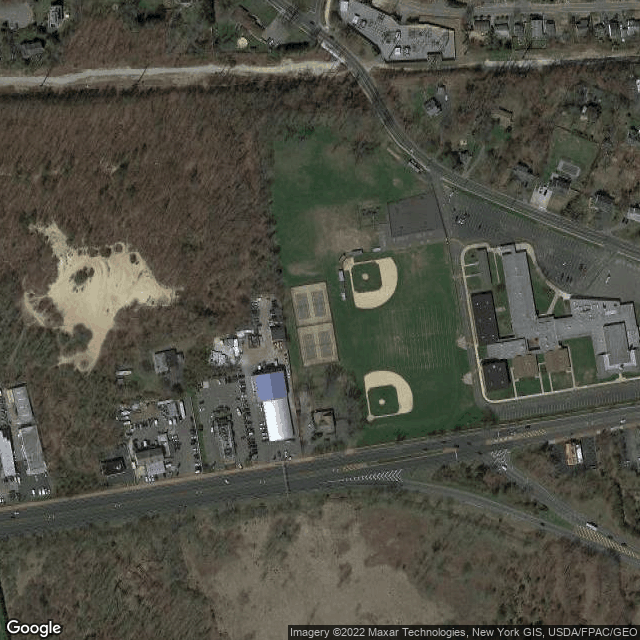Court: (298, 329, 322, 359), (292, 291, 315, 322), (309, 288, 329, 318), (317, 328, 337, 358)
